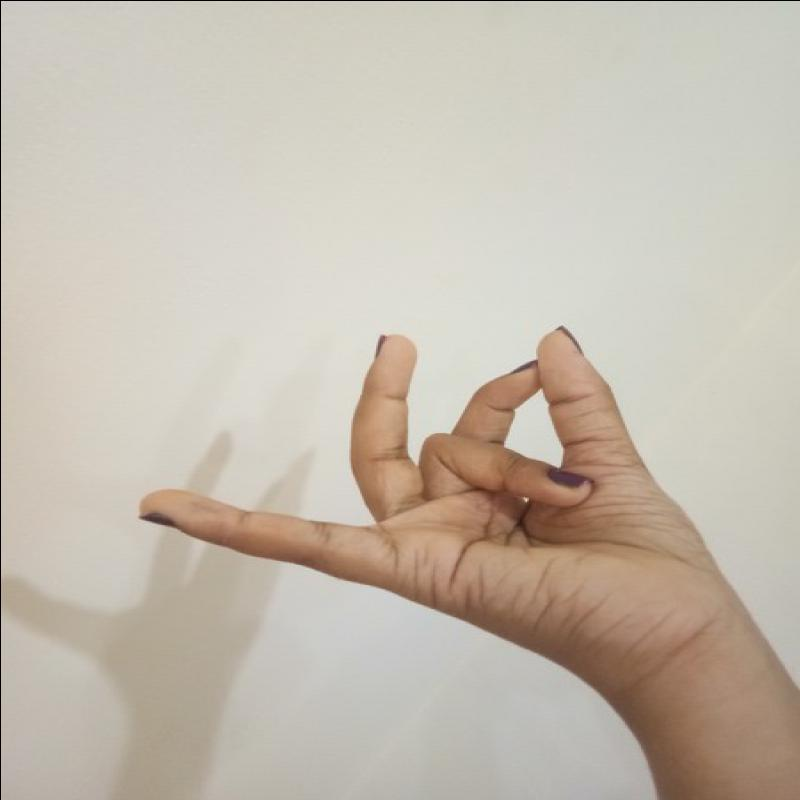Katakam: (124, 313, 748, 692)
